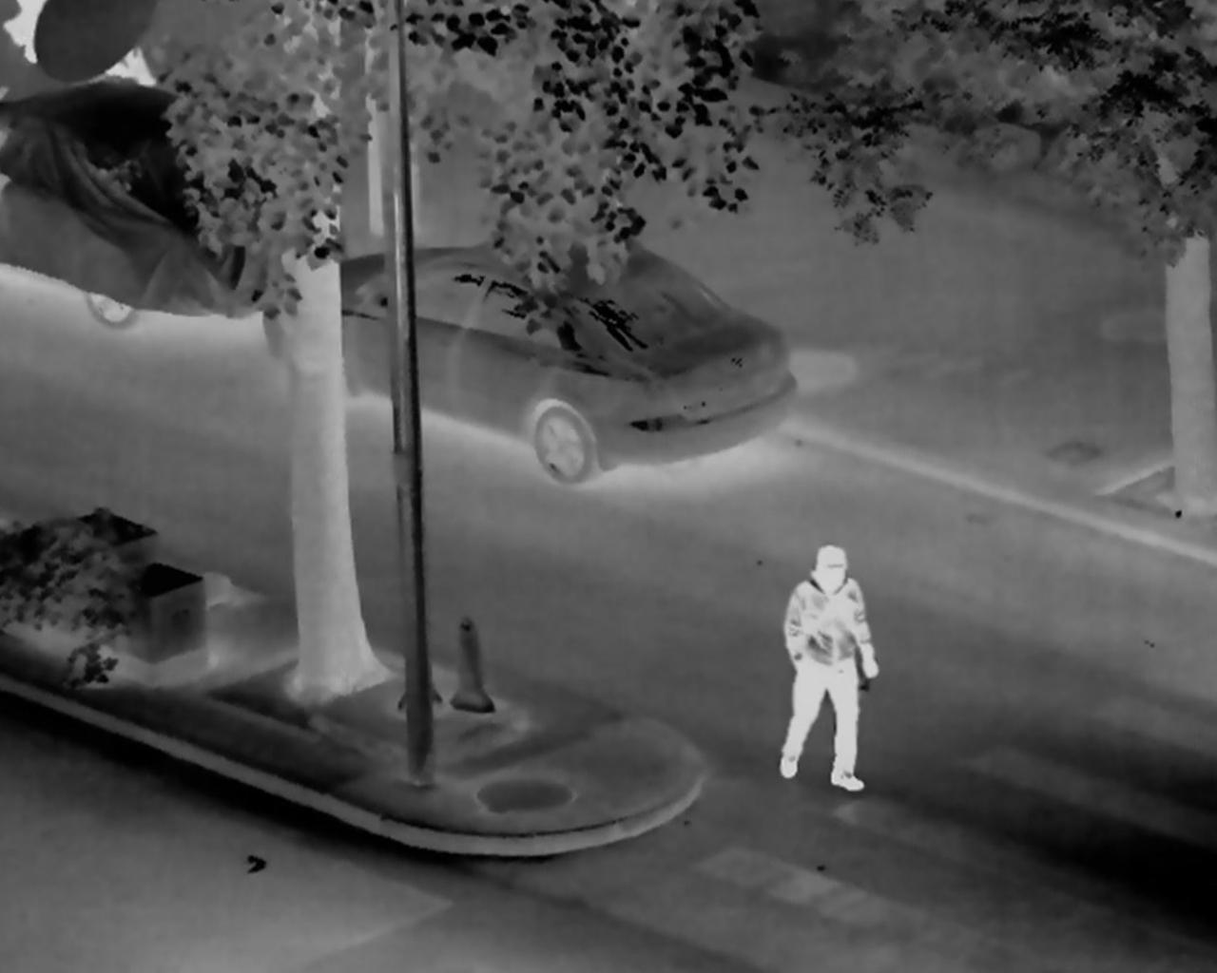person: (781, 545, 879, 792)
